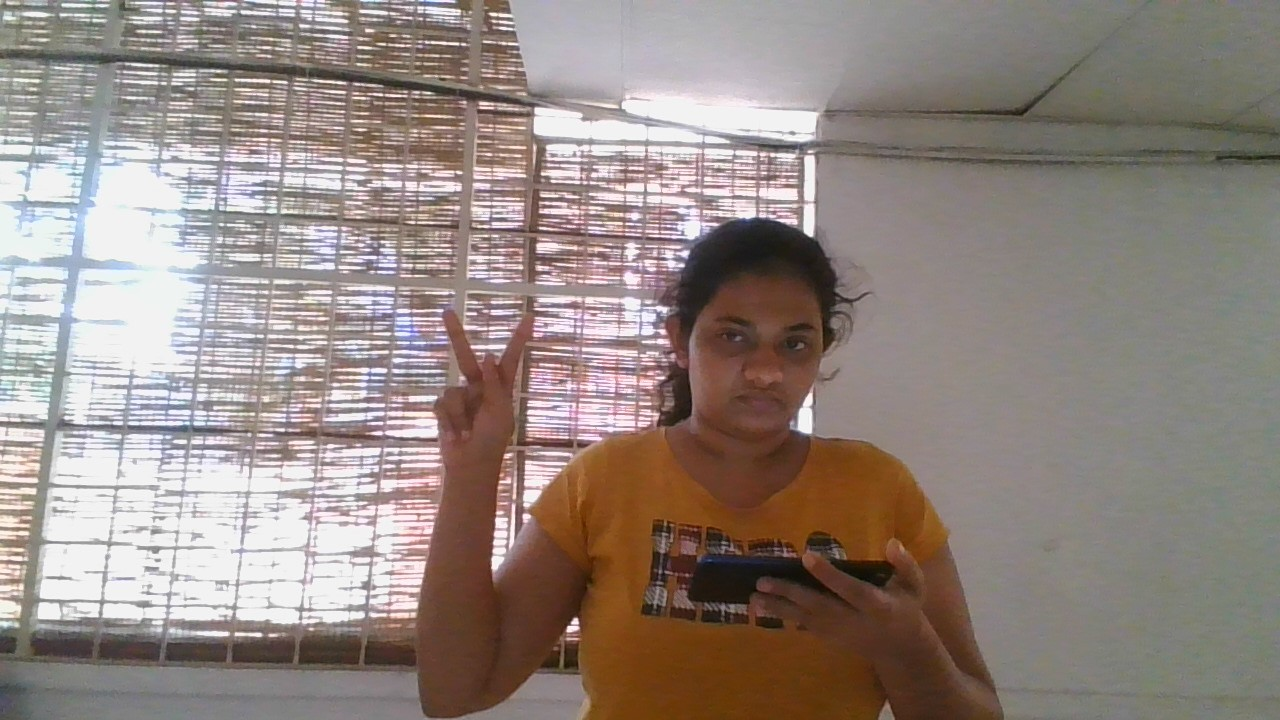k: (410, 296, 547, 477)
